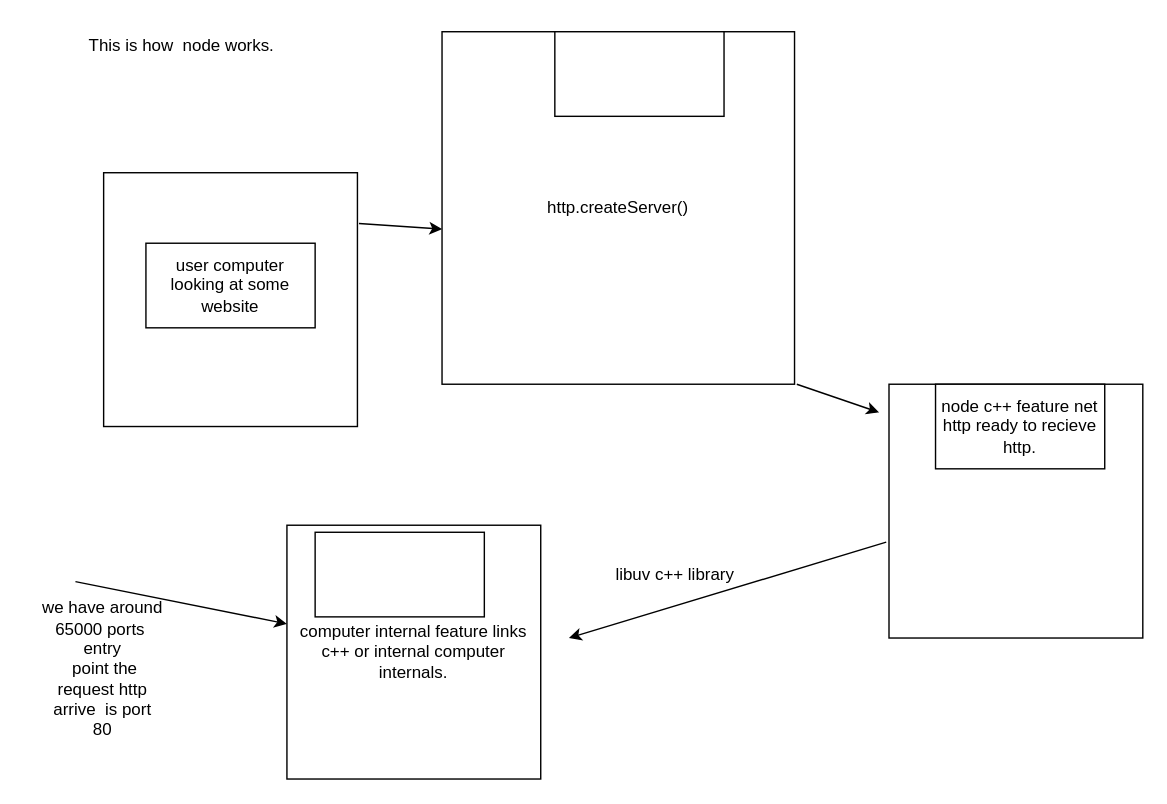
Image size: 1167x804. Some labels were removed from this diagram. The centre of each missing label's shape, as x and y in pixels:
"Javascript node feature http to access network card" goes at point 638,73.
"open socket ready to recieve http request" goes at point 399,574.
